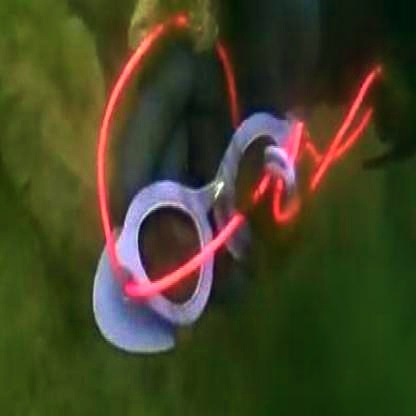sunglasses: (65, 62, 343, 350)
